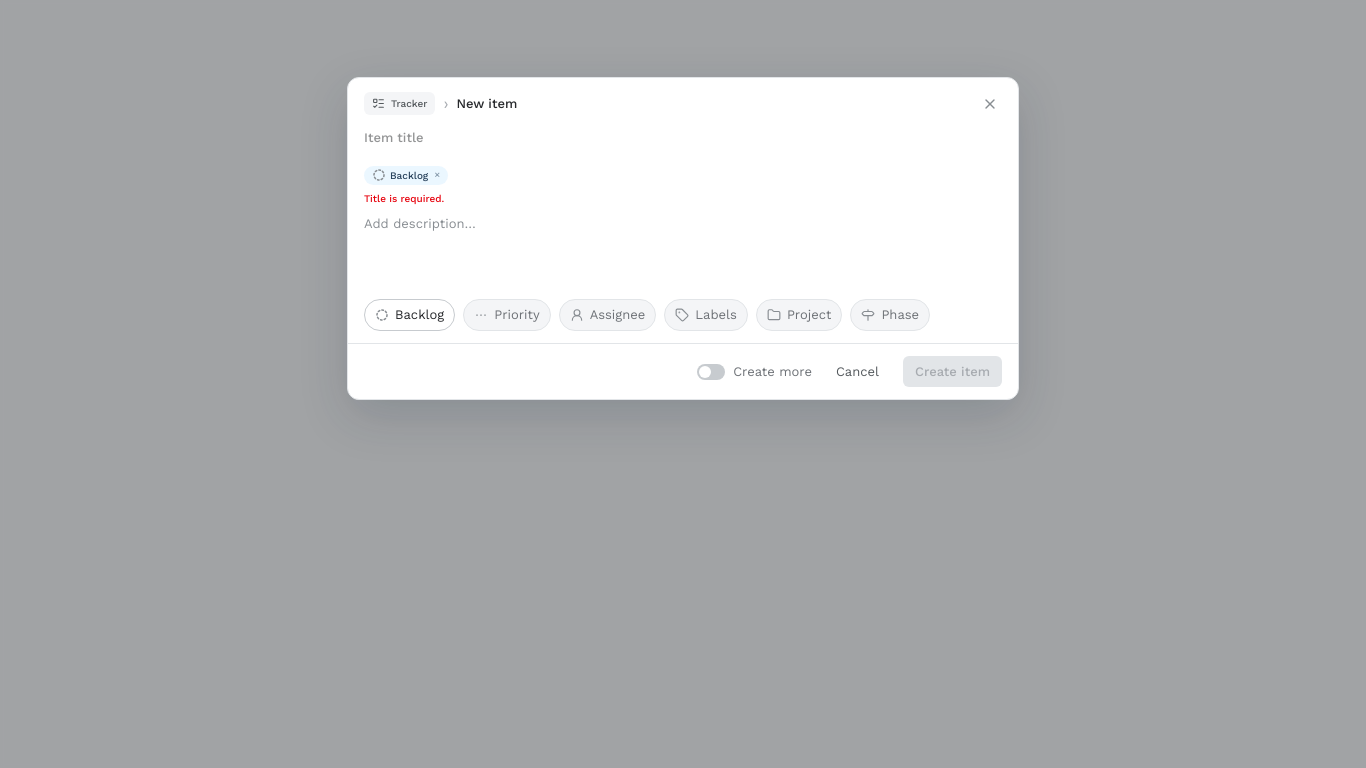
TrackerCreateModal project assignment › clears the phase when the project changes
This screenshot has width=1366, height=768.
Click the button "Project" at (799,315), box x1=756 y1=299 x2=842 y2=331
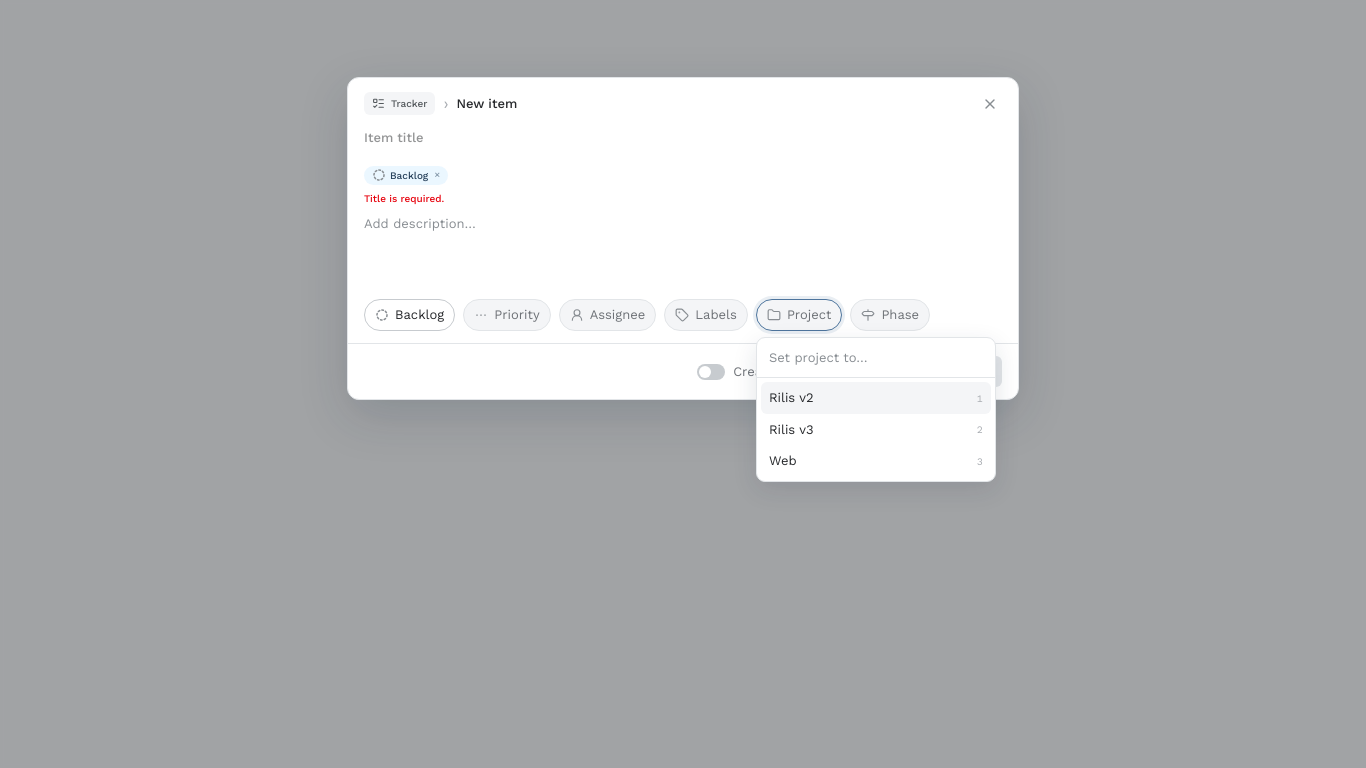
Click the option "Rilis v2 1" at (876,398), box x1=761 y1=382 x2=991 y2=414
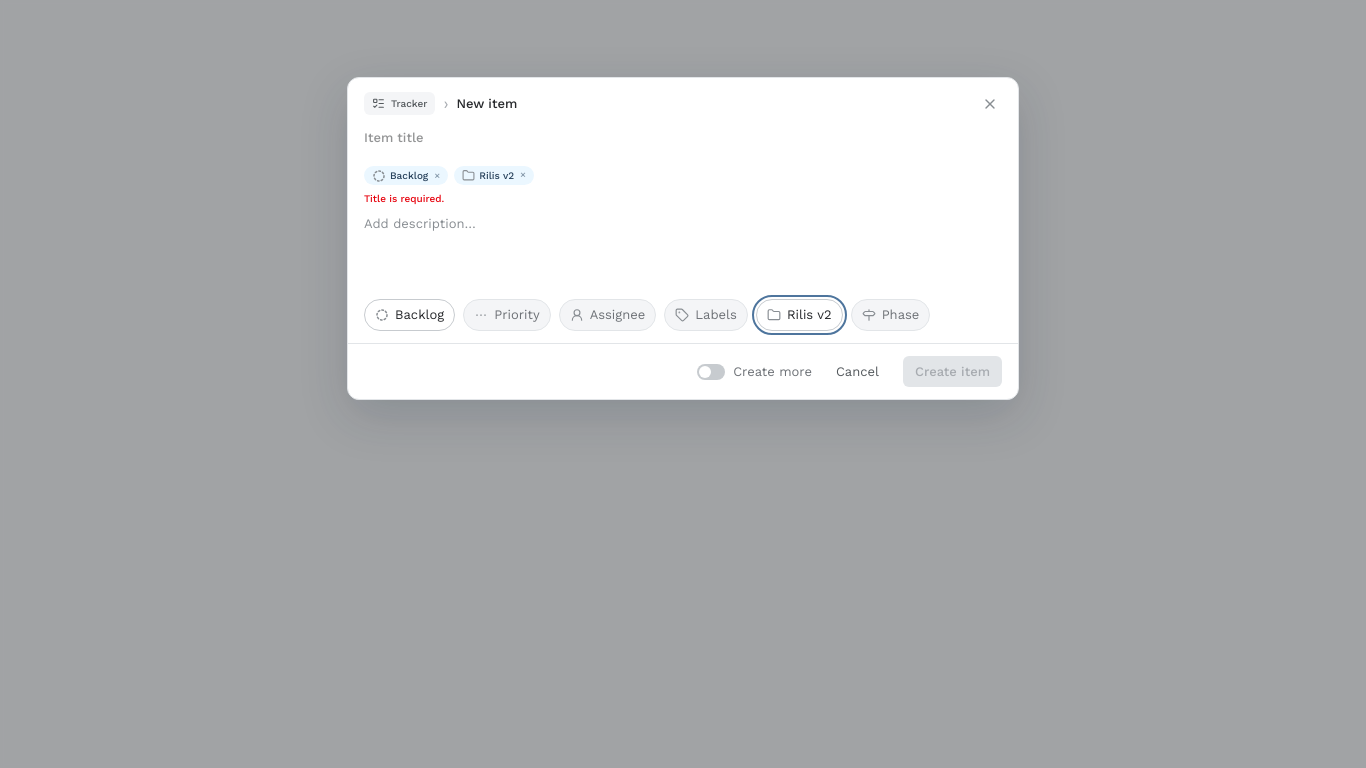
Click the button "Phase" at (891,315), box x1=851 y1=299 x2=930 y2=331
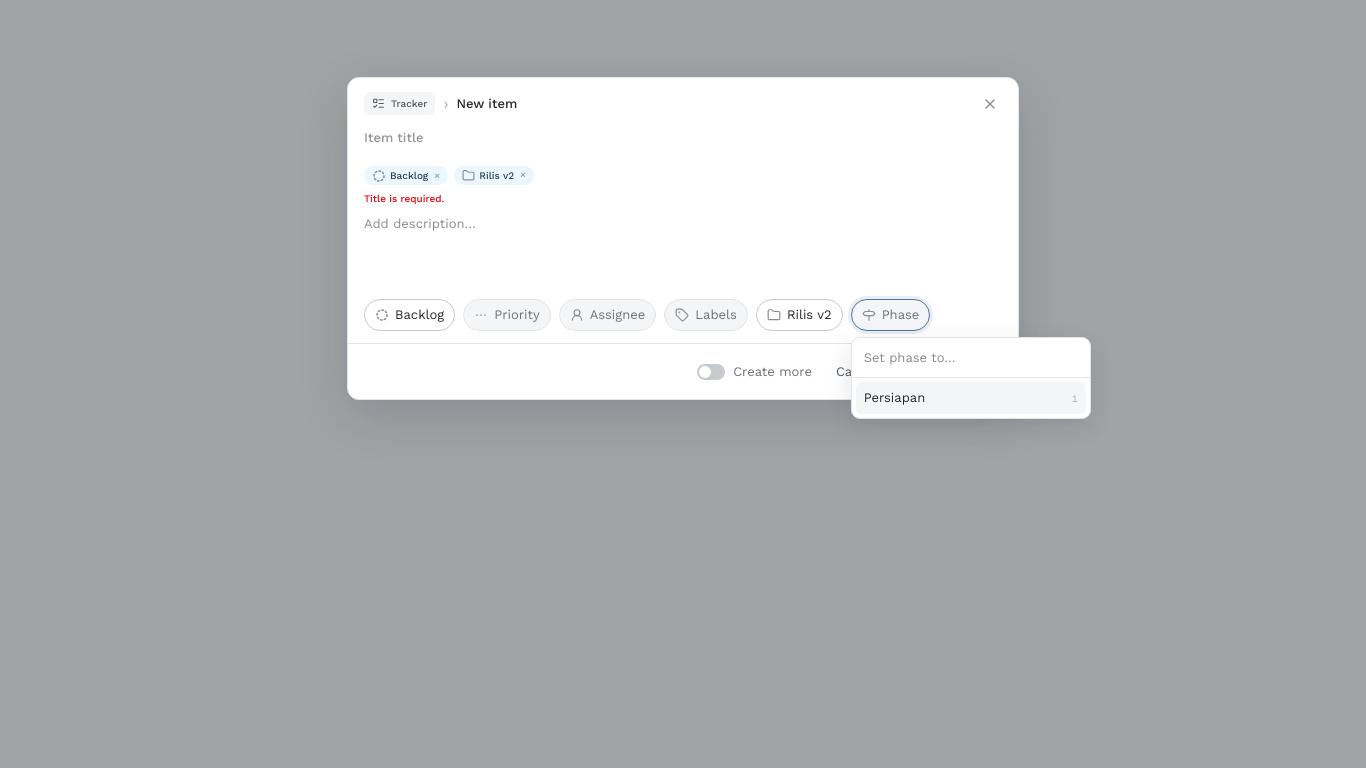
Click the option "Persiapan 1" at (971,398), box x1=856 y1=382 x2=1086 y2=414
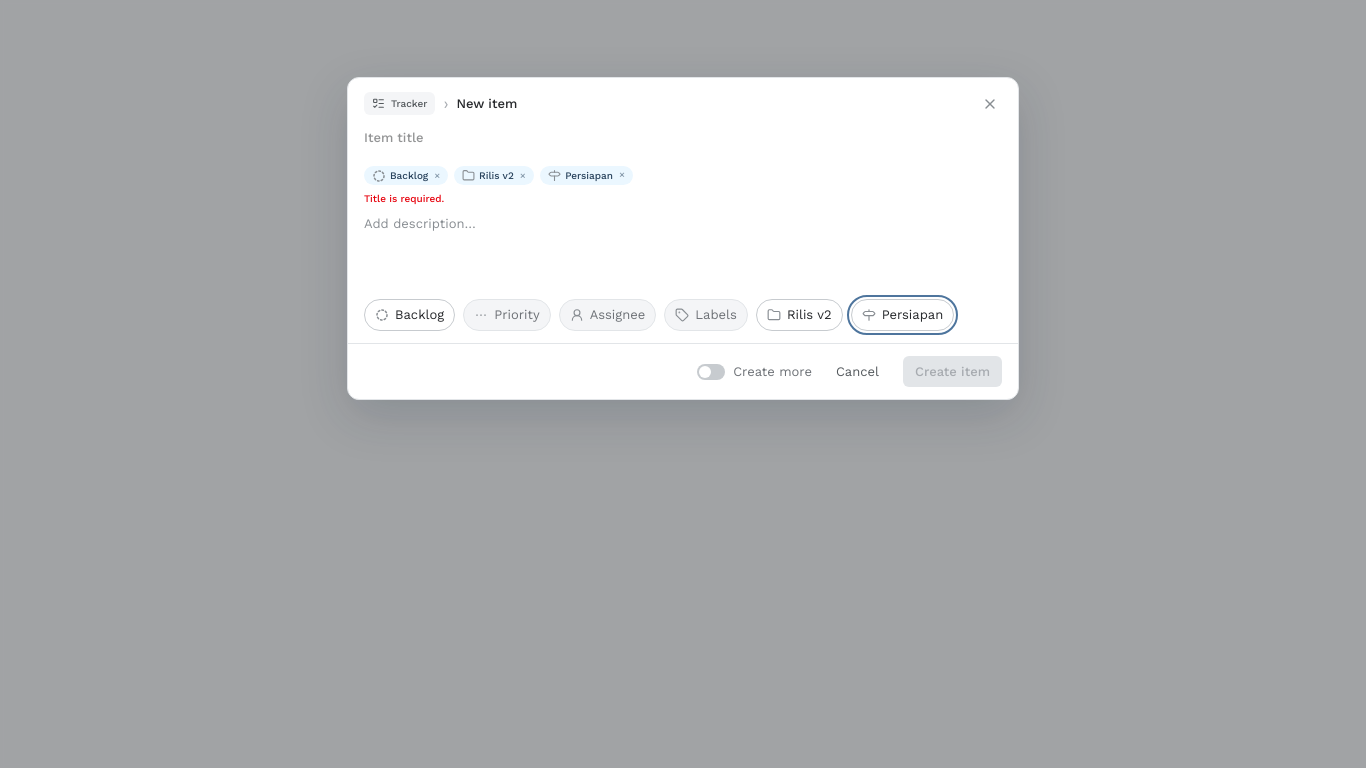
Result: the 2nd button "Persiapan" is shown at x1=851 y1=299 x2=954 y2=331
Click the 2nd button "Rilis v2" at (799,315), box x1=756 y1=299 x2=843 y2=331
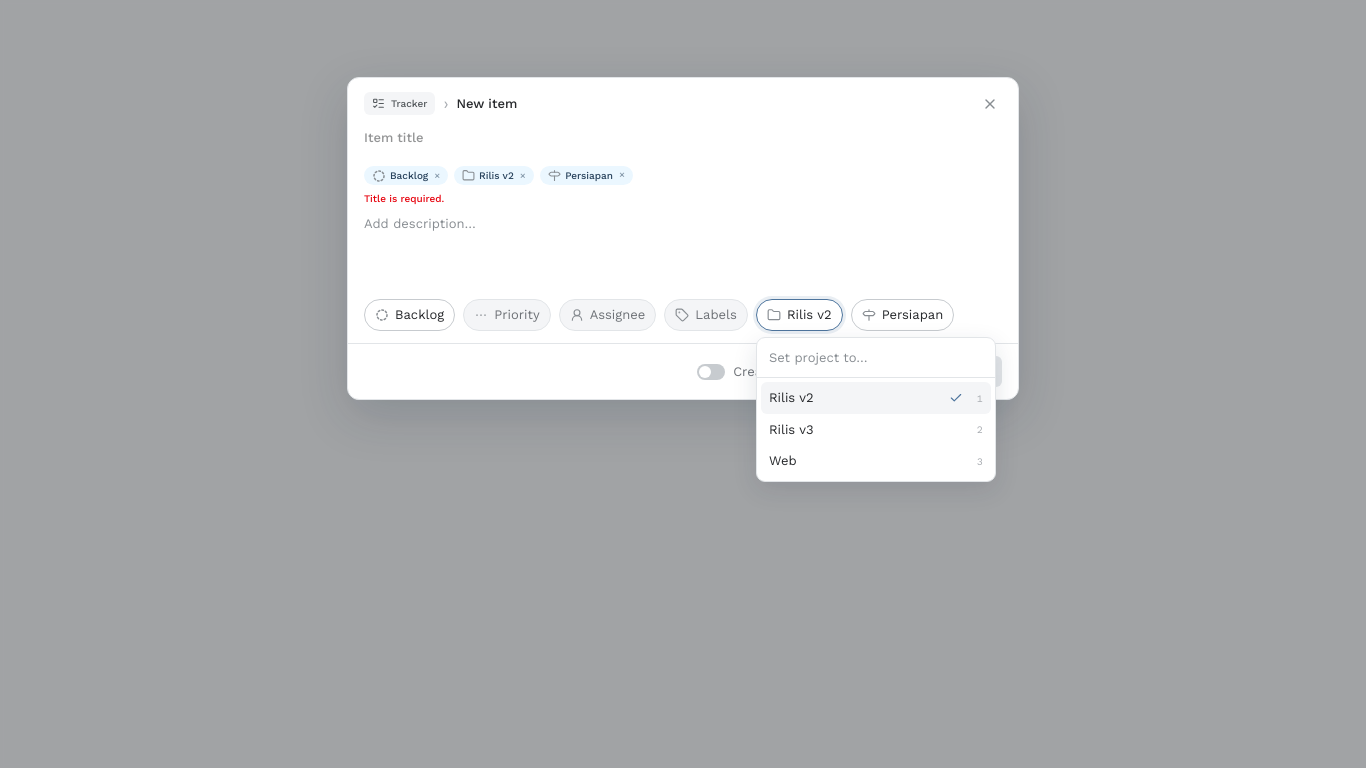
Click the option "Rilis v3 2" at (876,430), box x1=761 y1=414 x2=991 y2=445
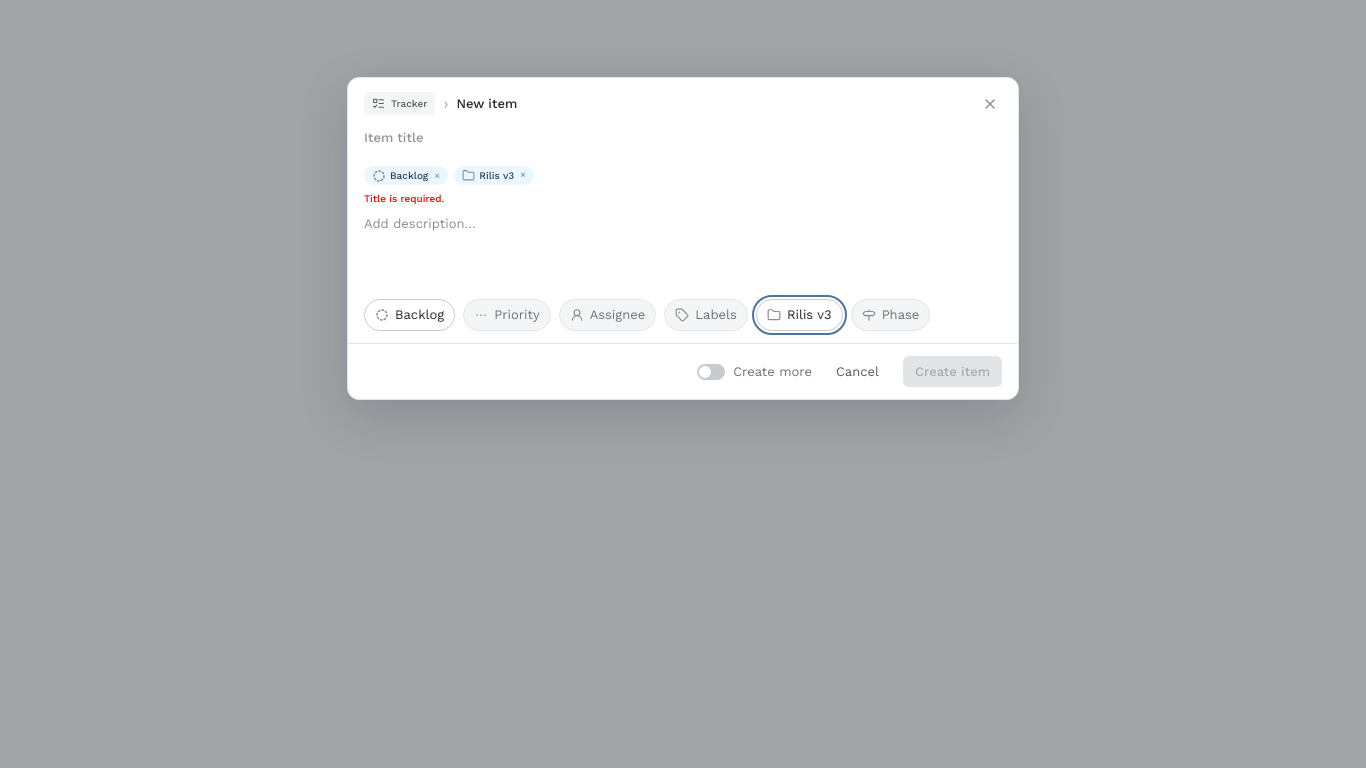
Result: the button "Persiapan" is gone
